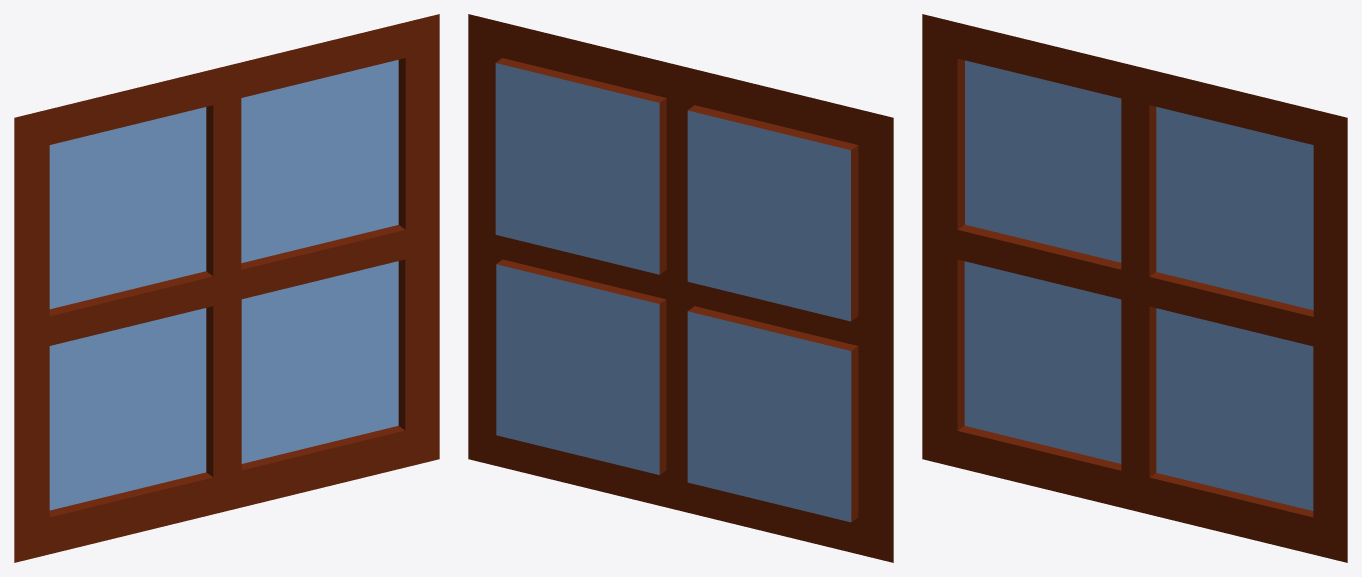
File: HomemadeWindow.fbx
3 views of the same model, side by side, from view 1: azimuth 30°, elevation 25°; view 2: azimuth 150°, elevation 25°; view 3: azimuth 330°, elevation 25° (orthographic).
Visible parts, largest first — view 1: Plane; view 2: Plane; view 3: Plane.
Boxes of the visible parts, x1,y1,x2,y2 form: Plane: (14, 14, 439, 562); Plane: (468, 14, 893, 562); Plane: (922, 14, 1347, 562).
Size of the model in its own units: 200 by 200 by 5.82.
